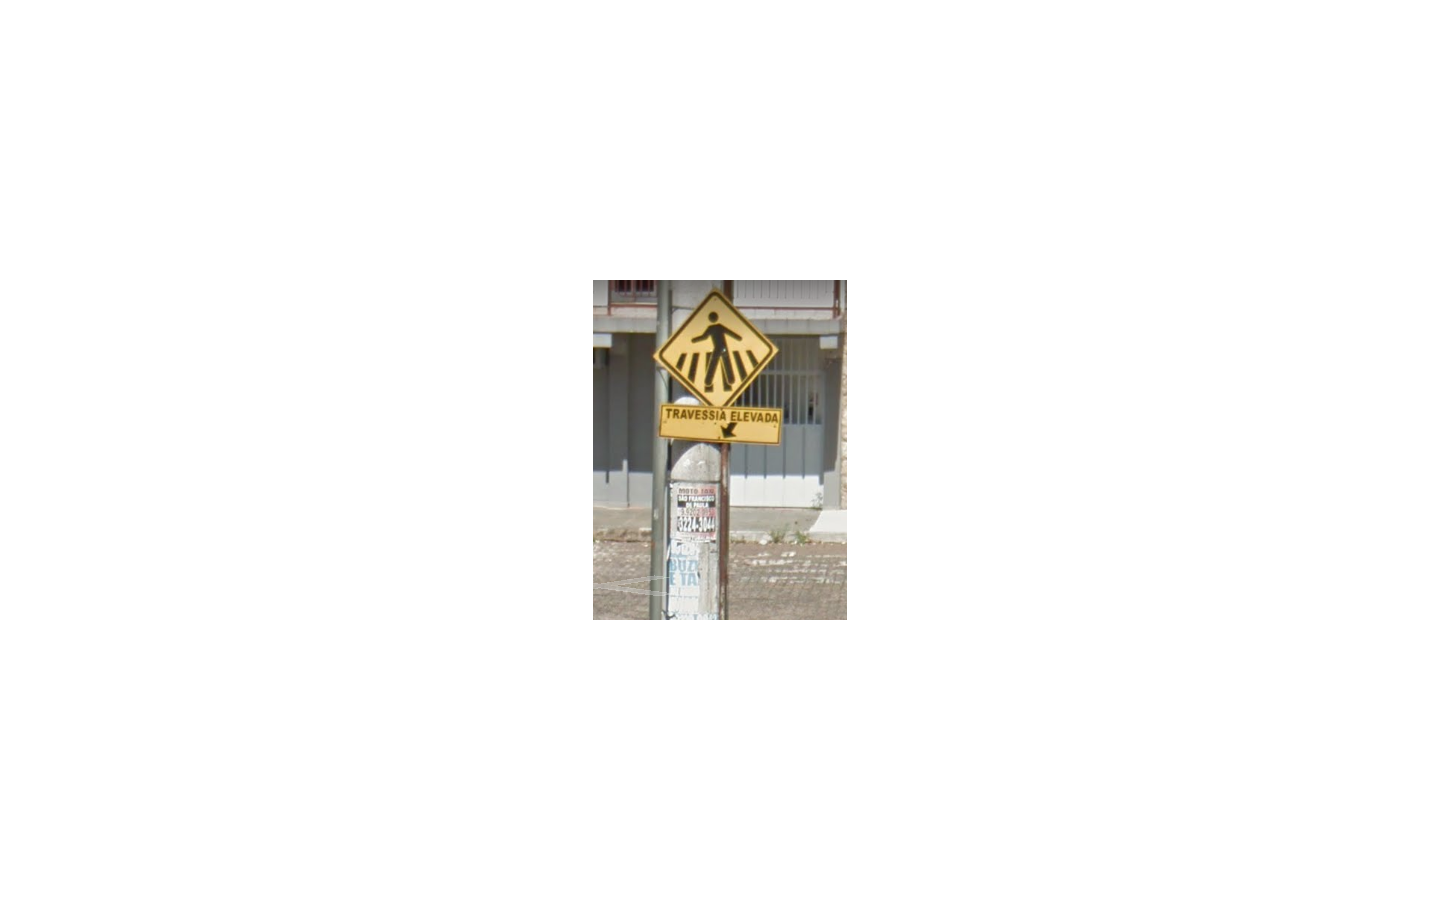telev: (651, 288, 782, 446)
